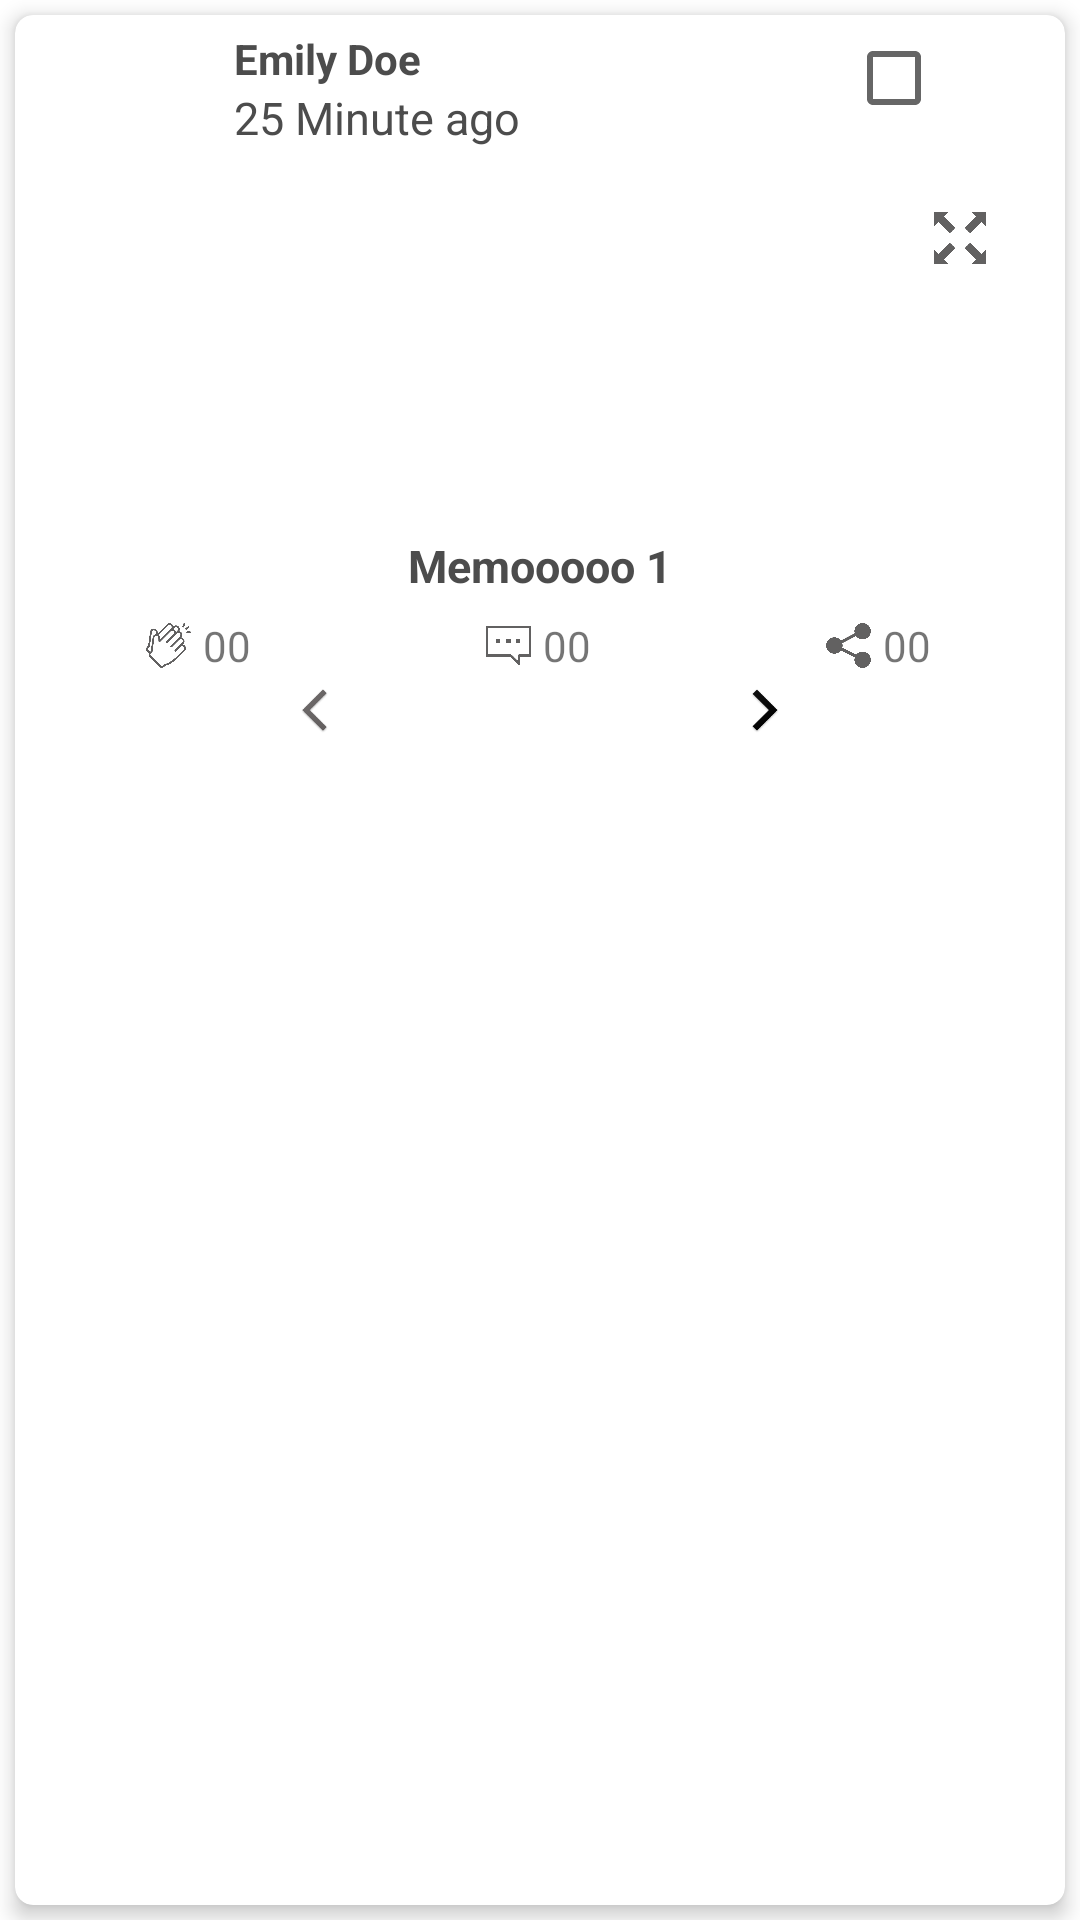

Where to tap for icons on this 1080 x 1920 app screen, as point (x, y):
clap: point (168, 645)
expand arrows: point (960, 238)
faint back: point (314, 710)
front: point (765, 710)
opinion: point (508, 645)
share: point (848, 645)
